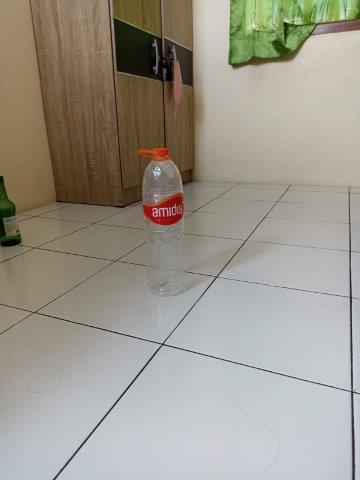botolplastik: (133, 148, 194, 298)
